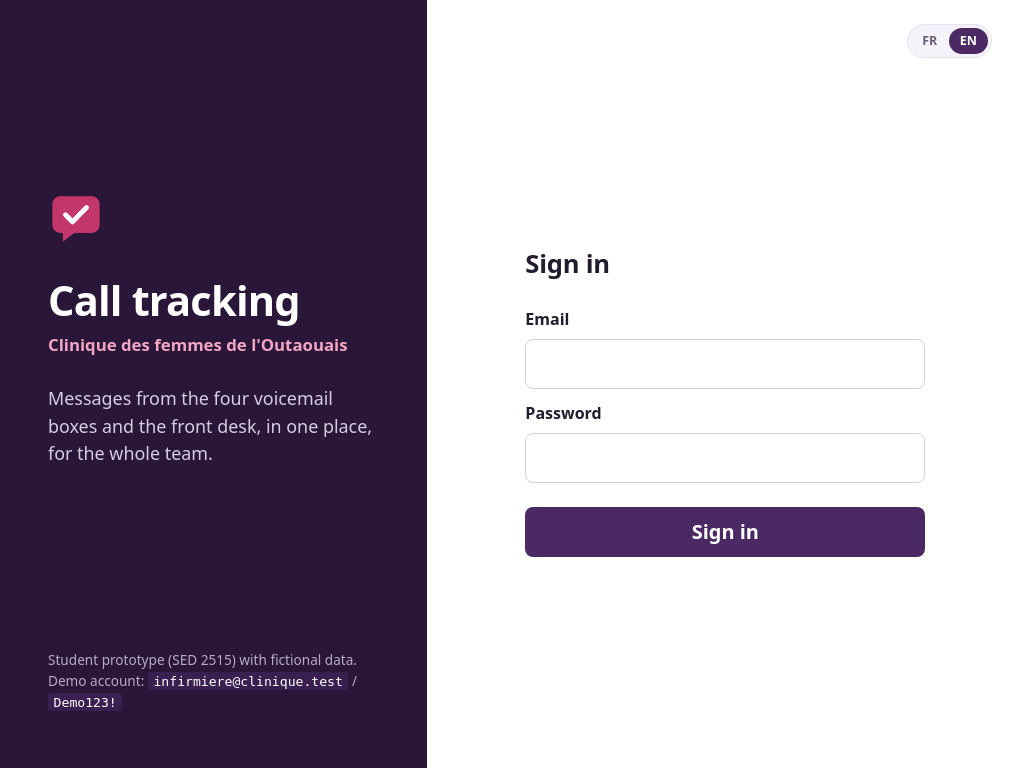
Test: Écran de connexion › affiche l’erreur du serveur, traduite en anglais
Type "reception@clinique.test" into the field labelled "Email" at [725, 364], box [525, 339, 925, 389]
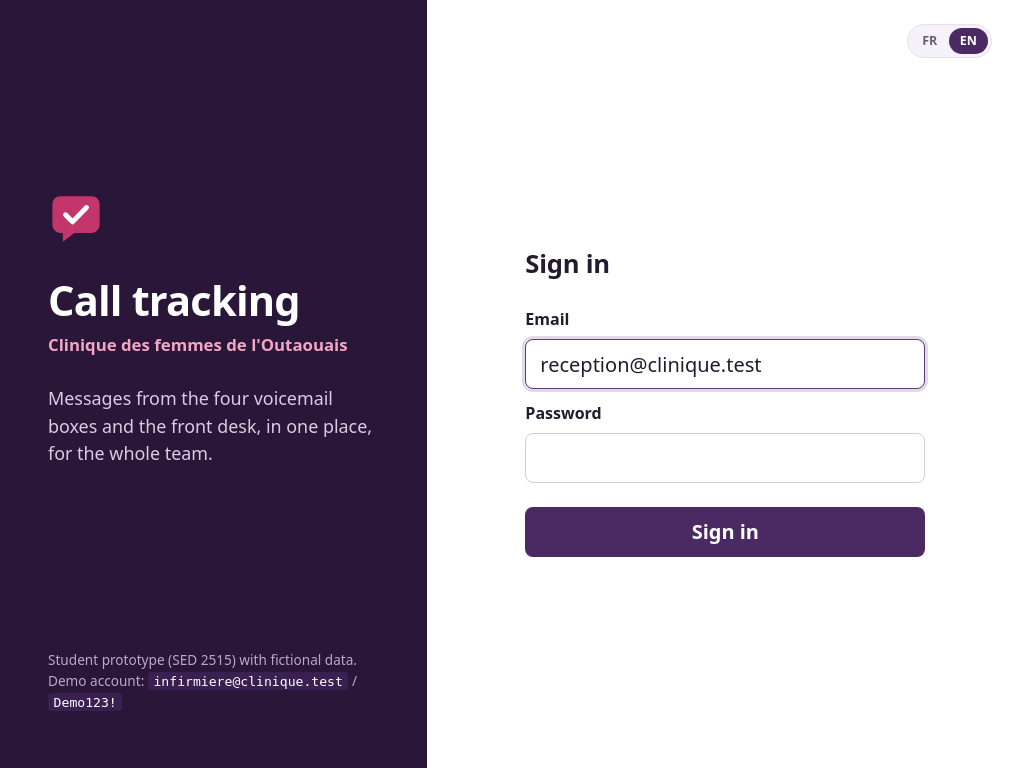
Type "mauvais" into the password field labelled "Password" at [725, 458], box [525, 433, 925, 483]
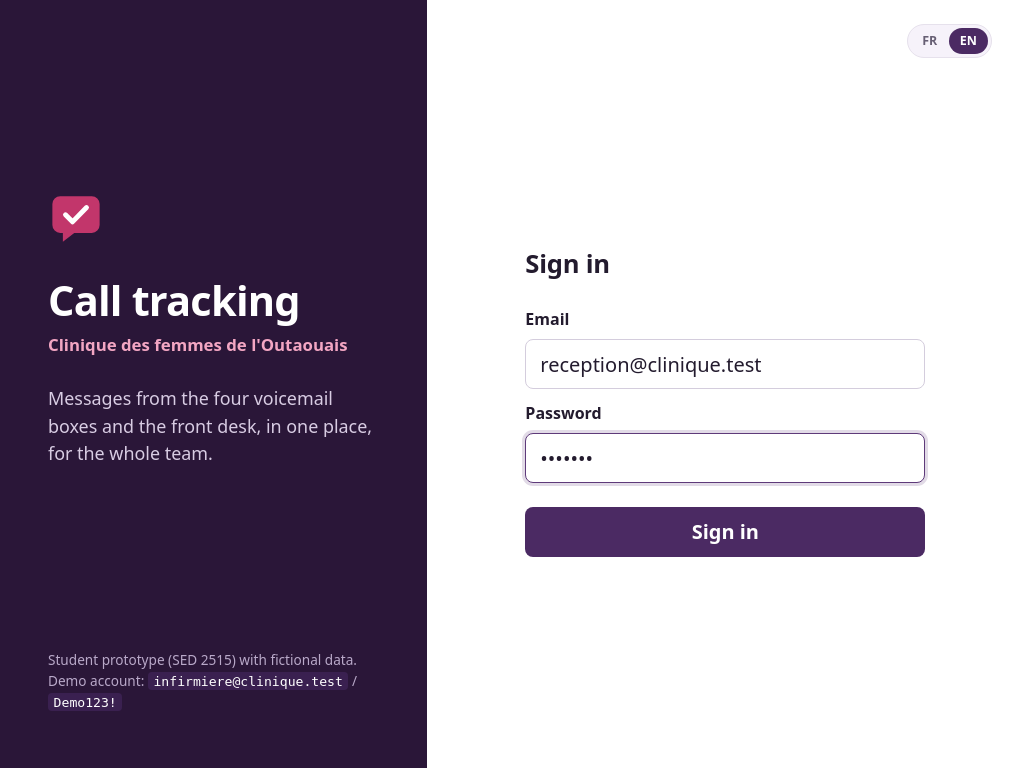
Click the button "Sign in" at [725, 532], box [525, 507, 925, 557]
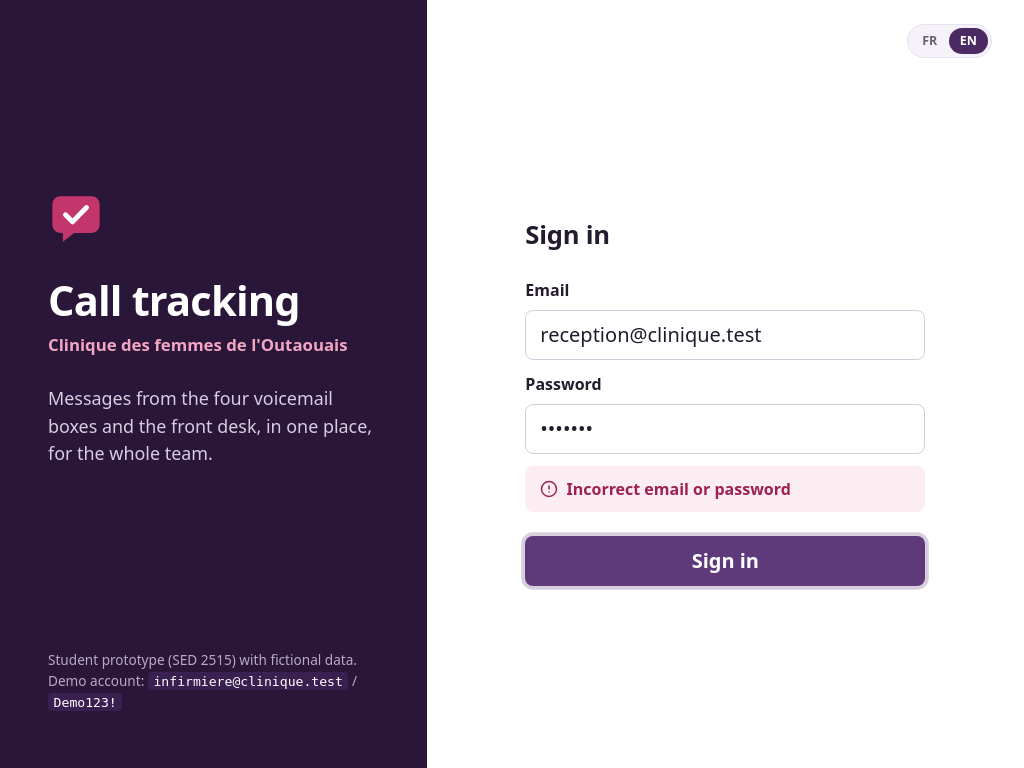
Expected: the text "Incorrect email or password" is shown, [525, 466, 925, 512]
